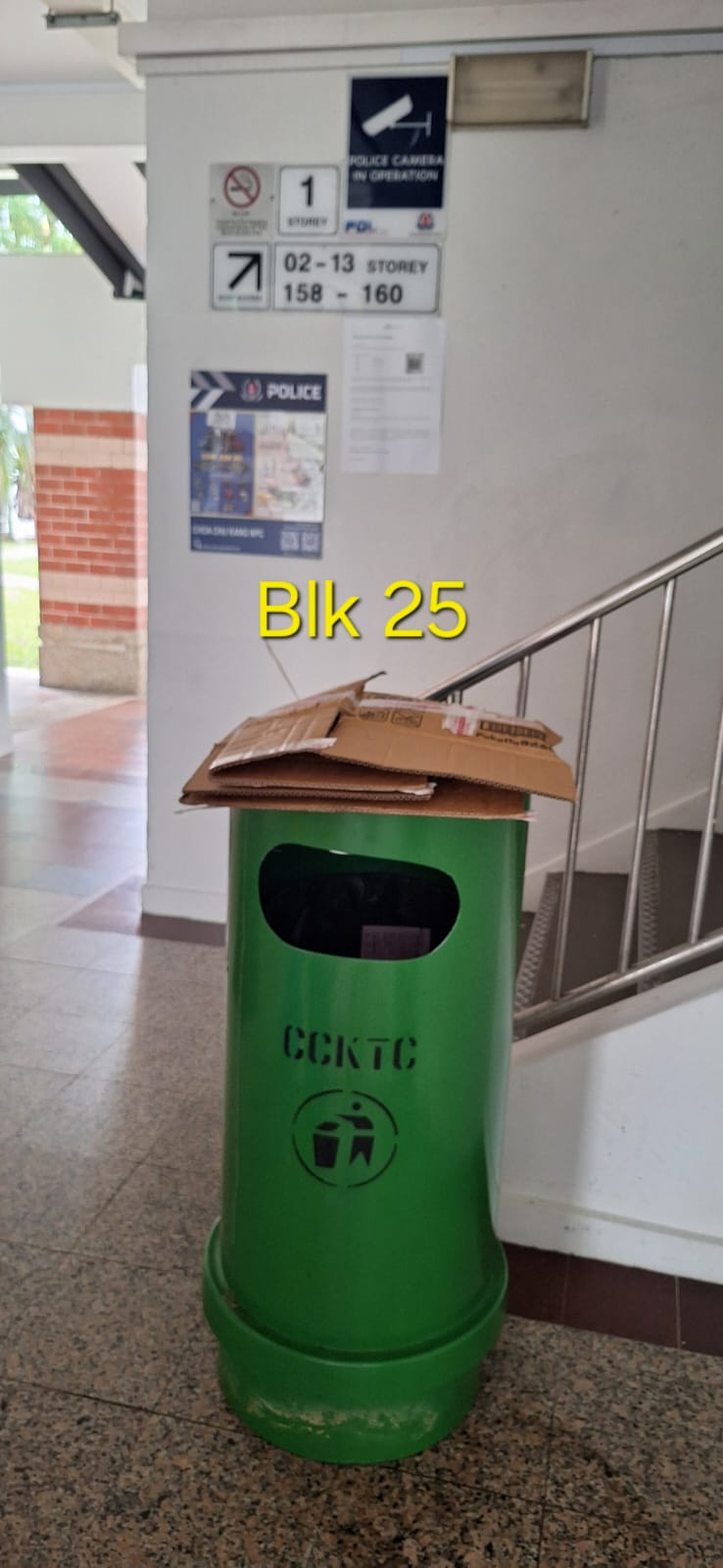bin_empty: (204, 808, 526, 1463)
bulk_waste: (184, 678, 574, 816)
